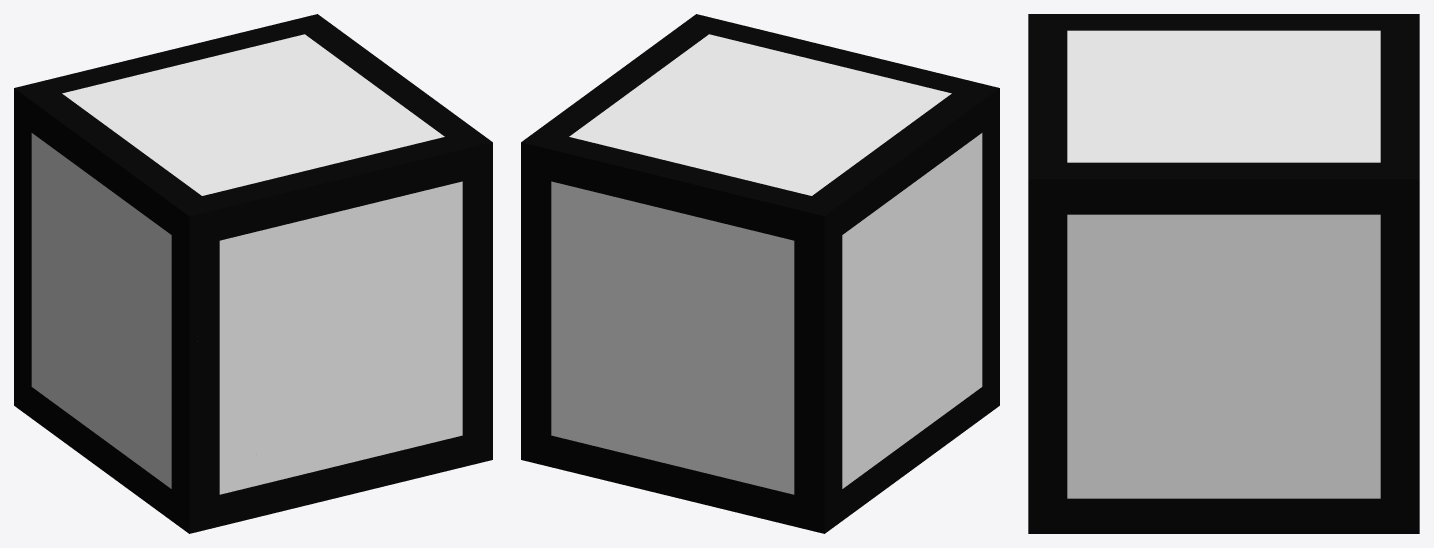
File: GooseBox_Solid.fbx
3 renders of one model, left to right at view 1: azimuth 30°, elevation 25°; view 2: azimuth 150°, elevation 25°; view 3: azimuth 270°, elevation 25°, orthographic. The views are drawn at different scales.
Visible parts, largest first — view 1: Box; view 2: Box; view 3: Box.
Boxes of the visible parts, x1,y1,x2,y2 form: Box: (14, 14, 492, 533); Box: (521, 14, 999, 533); Box: (1028, 14, 1419, 533).
Size of the model in its own units: 10 by 10 by 10.
1 material, 1 textured.
